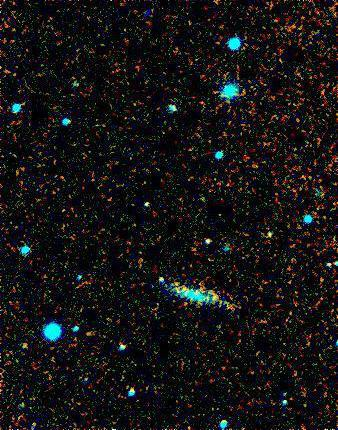star: (200, 285, 230, 315)
